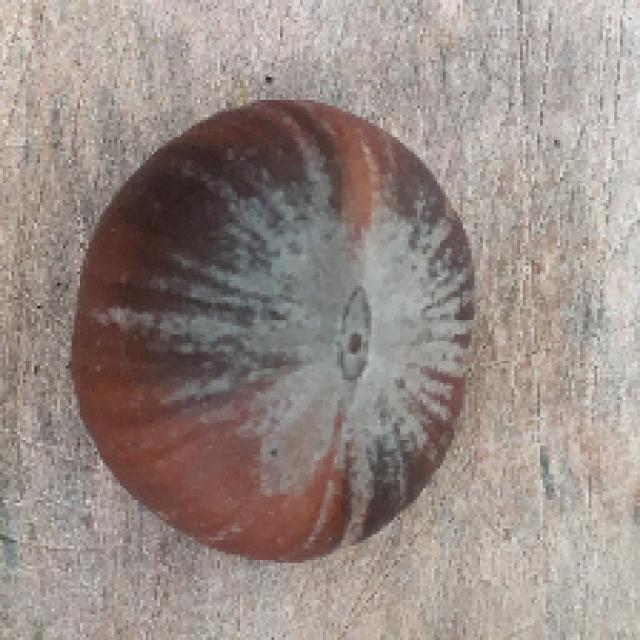damagedHazelnut: (61, 88, 487, 559)
